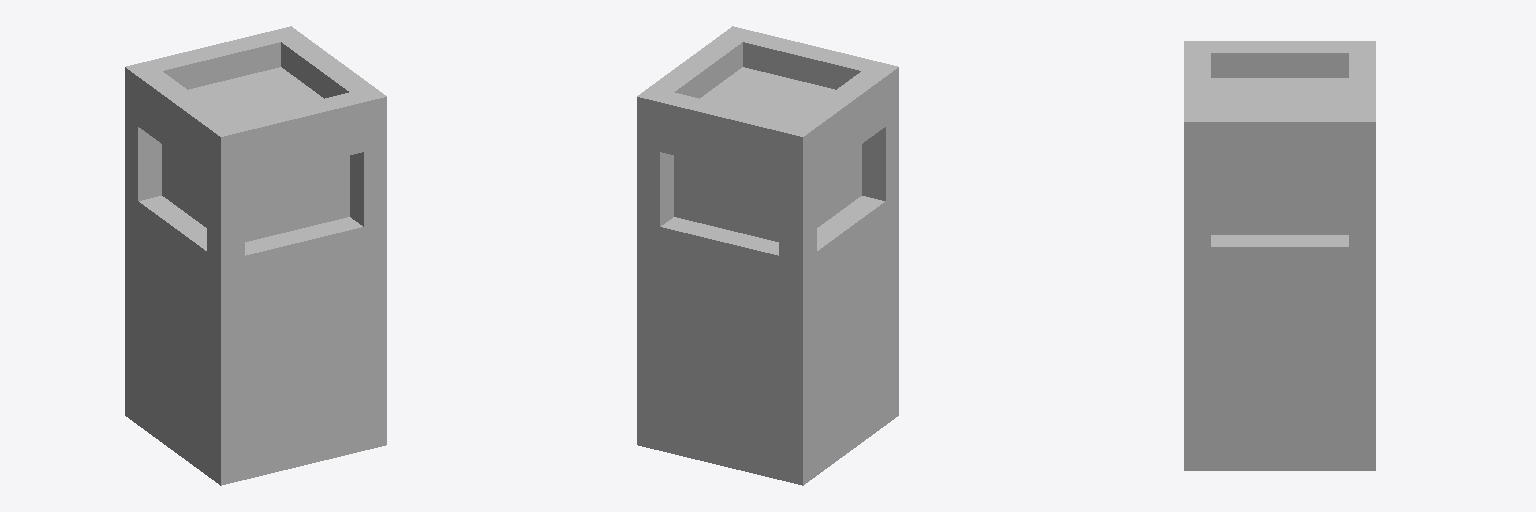
The model's file is 3D Voxel Office Pack-10.obj.
3 renders of one model, left to right at view 1: azimuth 30°, elevation 25°; view 2: azimuth 150°, elevation 25°; view 3: azimuth 270°, elevation 25°, orthographic.
Visible parts, largest first — view 1: object 1; view 2: object 1; view 3: object 1.
Part boxes in pixels (left/top/right/bottom): object 1: left=125, top=26, right=386, bottom=485; object 1: left=637, top=26, right=898, bottom=485; object 1: left=1184, top=41, right=1375, bottom=470.
Bounding box in the file's own units: 0.7 × 1.4 × 0.7.